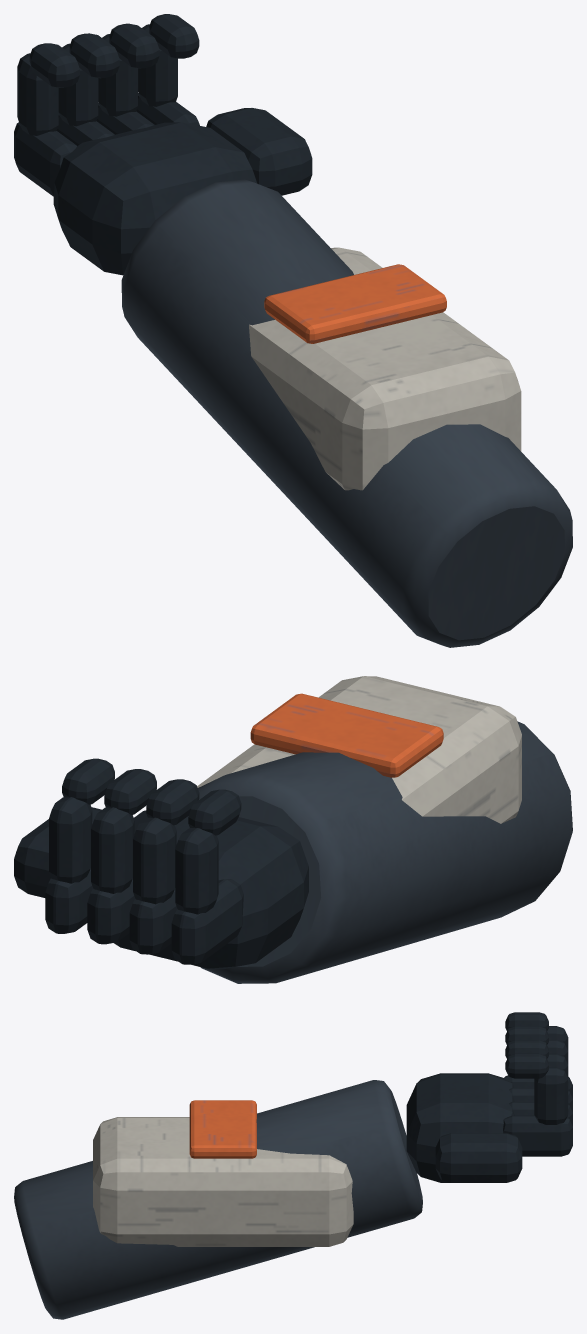
File: lunar-glove.glb
3 renders of one model, top to bottom at view 1: azimuth 30°, elevation 25°; view 2: azimuth 150°, elevation 25°; view 3: azimuth 270°, elevation 25°, orthographic. The views are drawn at different scales.
Parts seen in each view (by area): view 1: Forearm, ThrowGlove_Grip_polymer, Gauntlet, Gauntlet stripe; view 2: Forearm, ThrowGlove_Grip_polymer, Gauntlet, Gauntlet stripe; view 3: Forearm, Gauntlet, ThrowGlove_Grip_polymer, Gauntlet stripe.
Boxes of the visible parts, x1=… form: Forearm: x1=121, y1=179, x2=572, y2=647; ThrowGlove_Grip_polymer: x1=14, y1=14, x2=312, y2=275; Gauntlet: x1=249, y1=247, x2=521, y2=490; Gauntlet stripe: x1=264, y1=264, x2=446, y2=343; Forearm: x1=197, y1=721, x2=572, y2=983; ThrowGlove_Grip_polymer: x1=14, y1=758, x2=308, y2=968; Gauntlet: x1=197, y1=676, x2=521, y2=823; Gauntlet stripe: x1=250, y1=693, x2=443, y2=777; Forearm: x1=14, y1=1080, x2=422, y2=1319; Gauntlet: x1=93, y1=1117, x2=353, y2=1246; ThrowGlove_Grip_polymer: x1=406, y1=1012, x2=572, y2=1182; Gauntlet stripe: x1=189, y1=1100, x2=256, y2=1158.
Size of the model in its own units: 0.1963 by 0.306 by 0.5796.
Materials: 4 (4 with a texture image).
